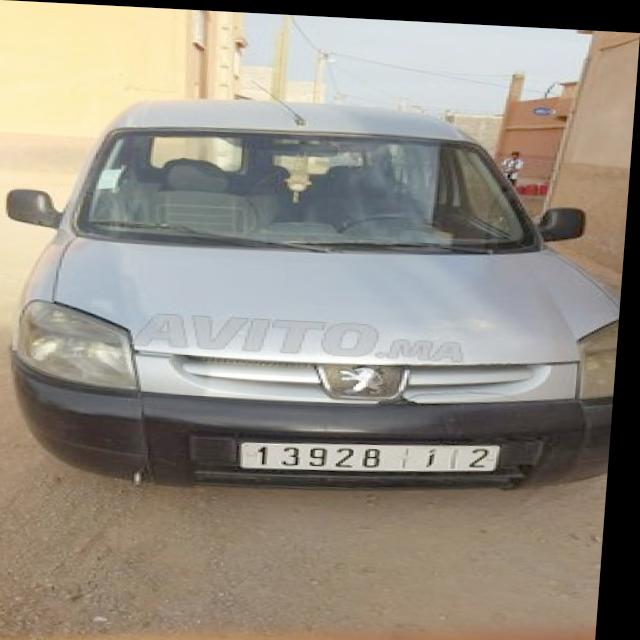License-Plate: (247, 442, 506, 466)
